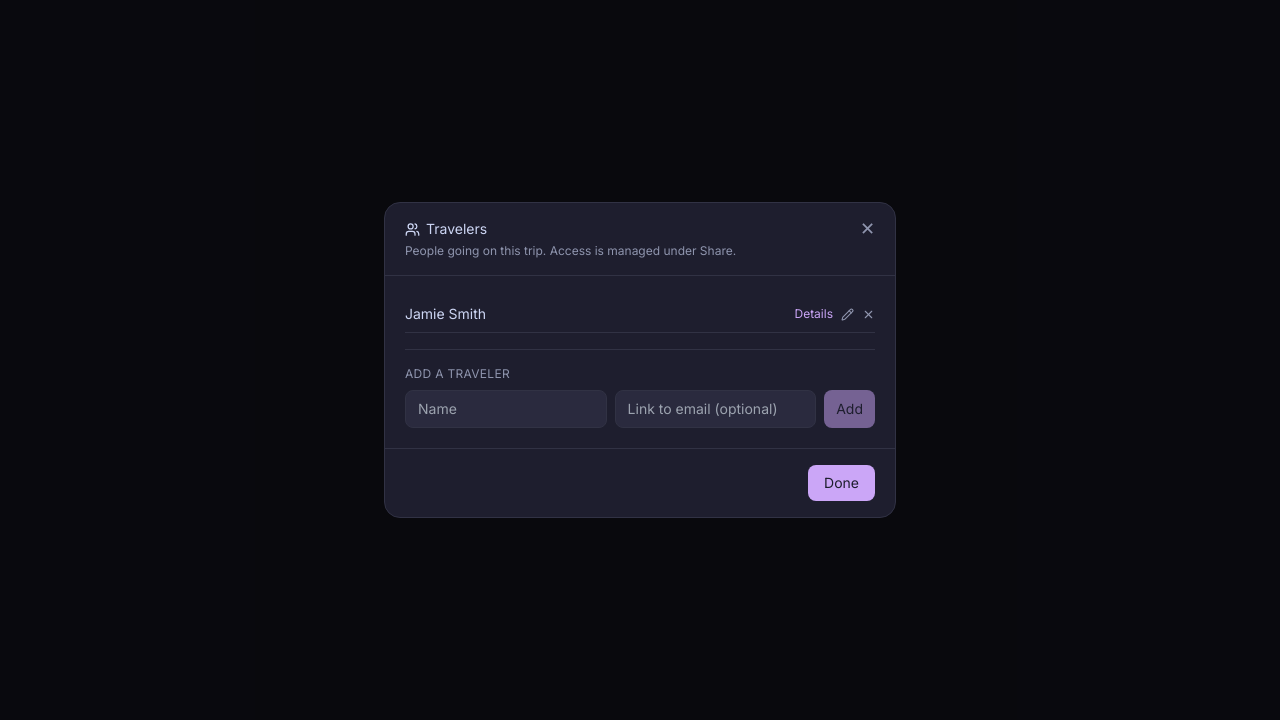
it: TravelersModal — owner › shows the not-configured message on a 503 from putTravelerProfile
Expected: the text "Jamie Smith" is shown, top-left (405, 304), bottom-right (486, 324)
Click the button "Details": (814, 314) top-left (794, 306), bottom-right (833, 322)
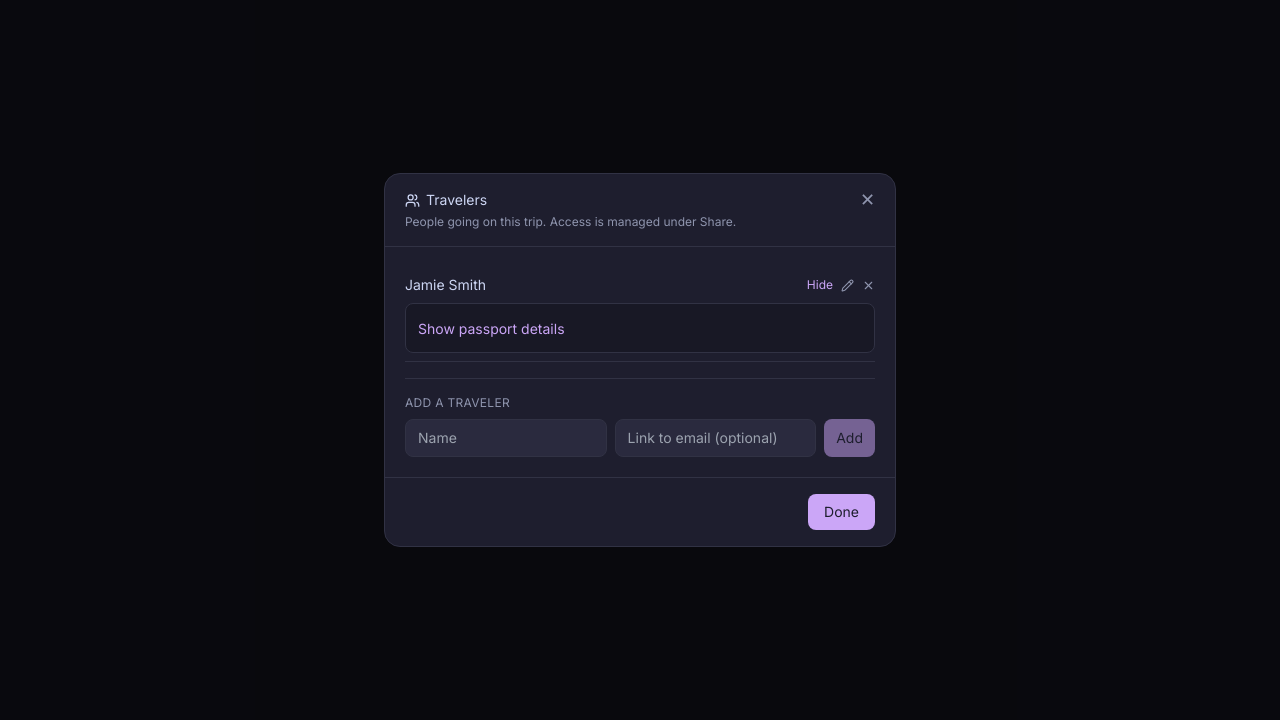
Click the button "Show passport details": (491, 329) top-left (418, 319), bottom-right (564, 339)
(page scrolled)
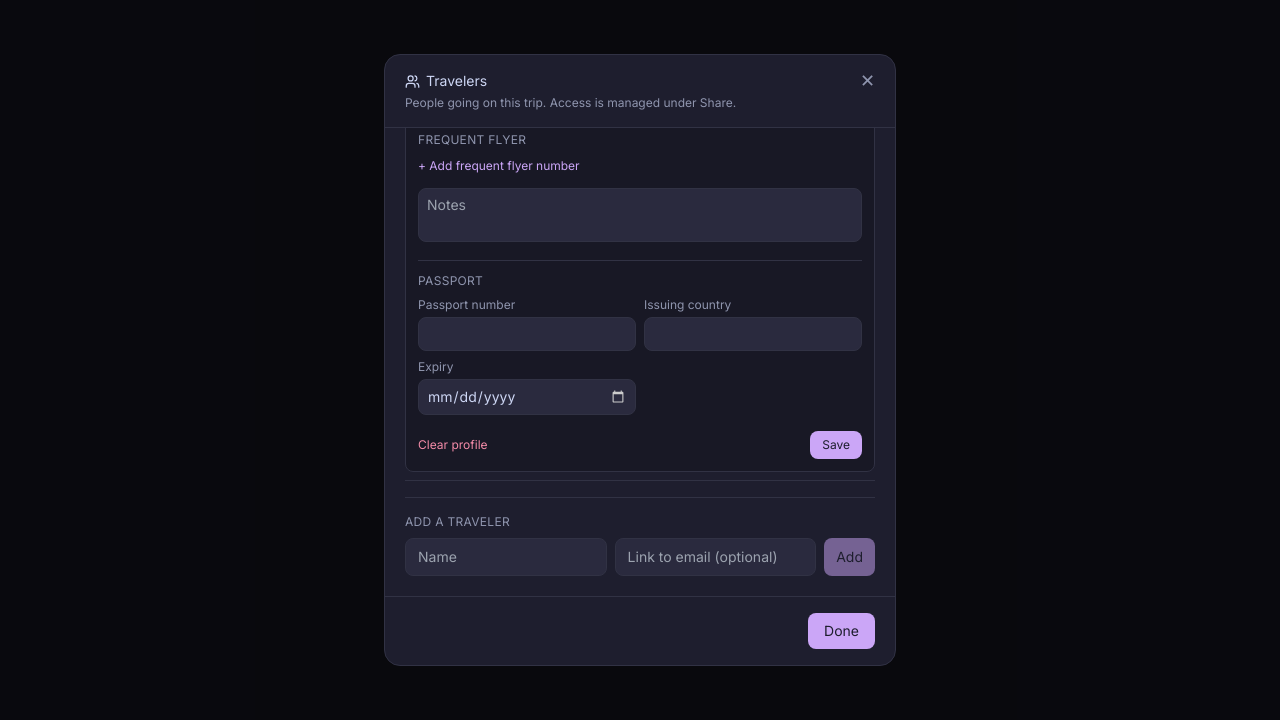
Now the button "Save" is shown
Click the button "Save": (836, 445) top-left (810, 431), bottom-right (862, 459)
(page scrolled)
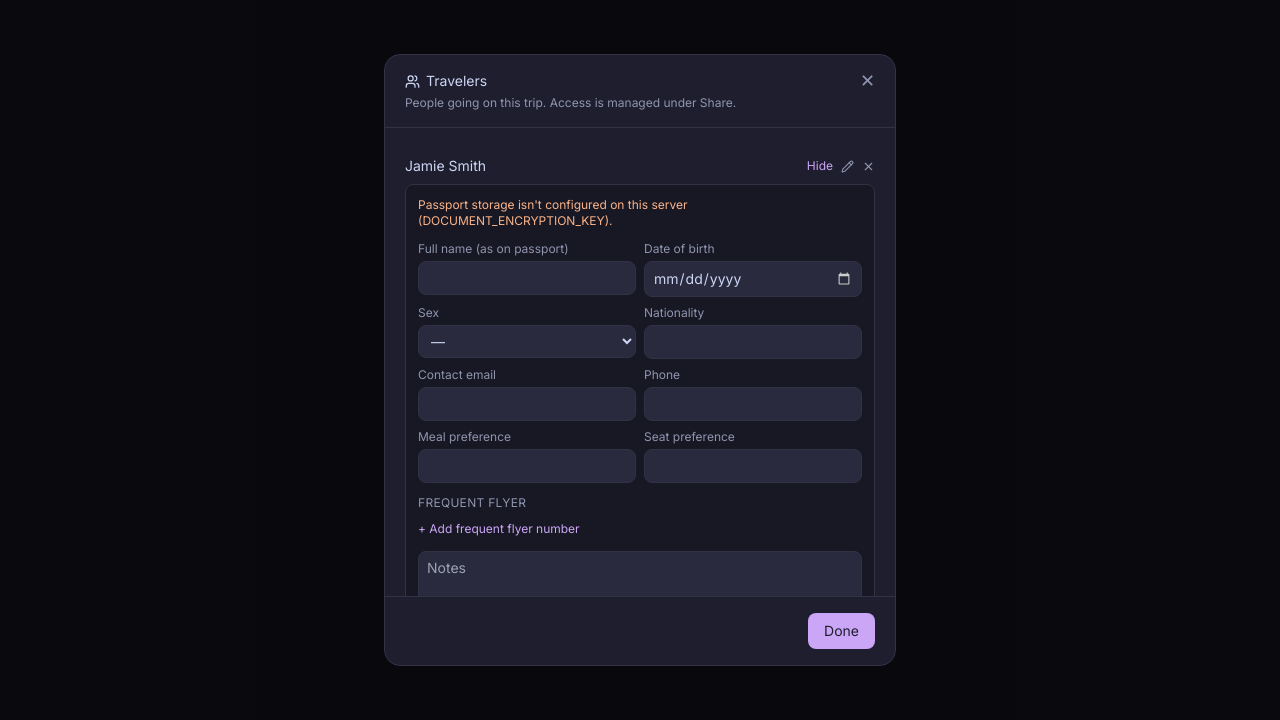
Now the text "DOCUMENT_ENCRYPTION_KEY" is shown, box top-left (418, 197), bottom-right (688, 228)
